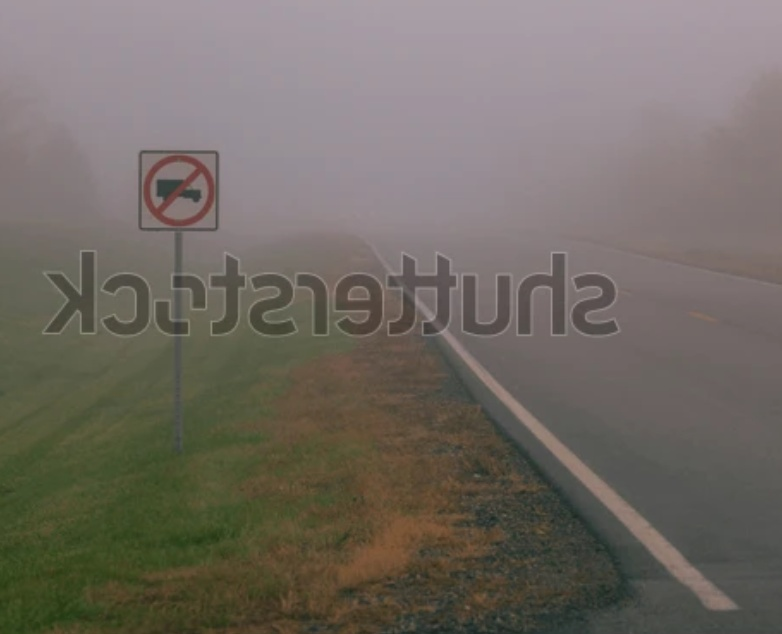No entry for heavy vehicles: (127, 148, 216, 237)
